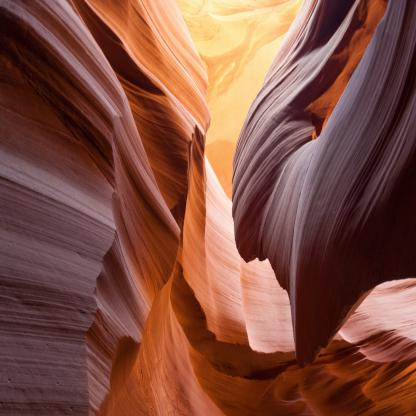Sedimentary_Sandstone: (225, 0, 416, 353), (0, 4, 151, 416)
